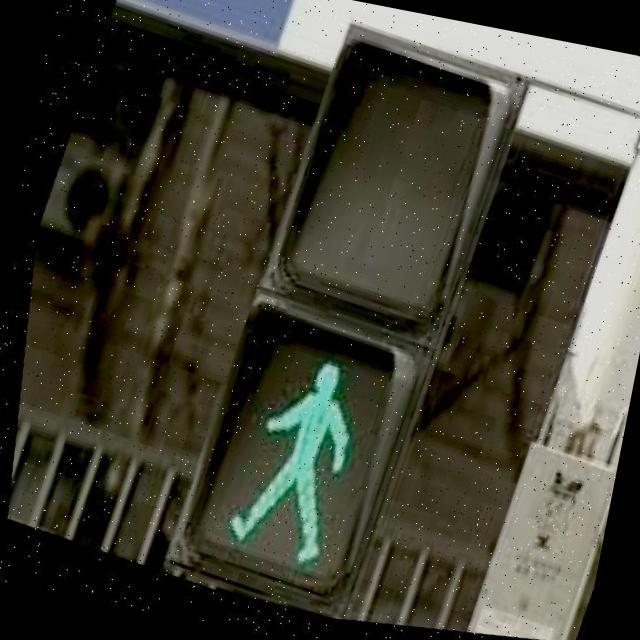greenlight: (176, 36, 532, 610)
